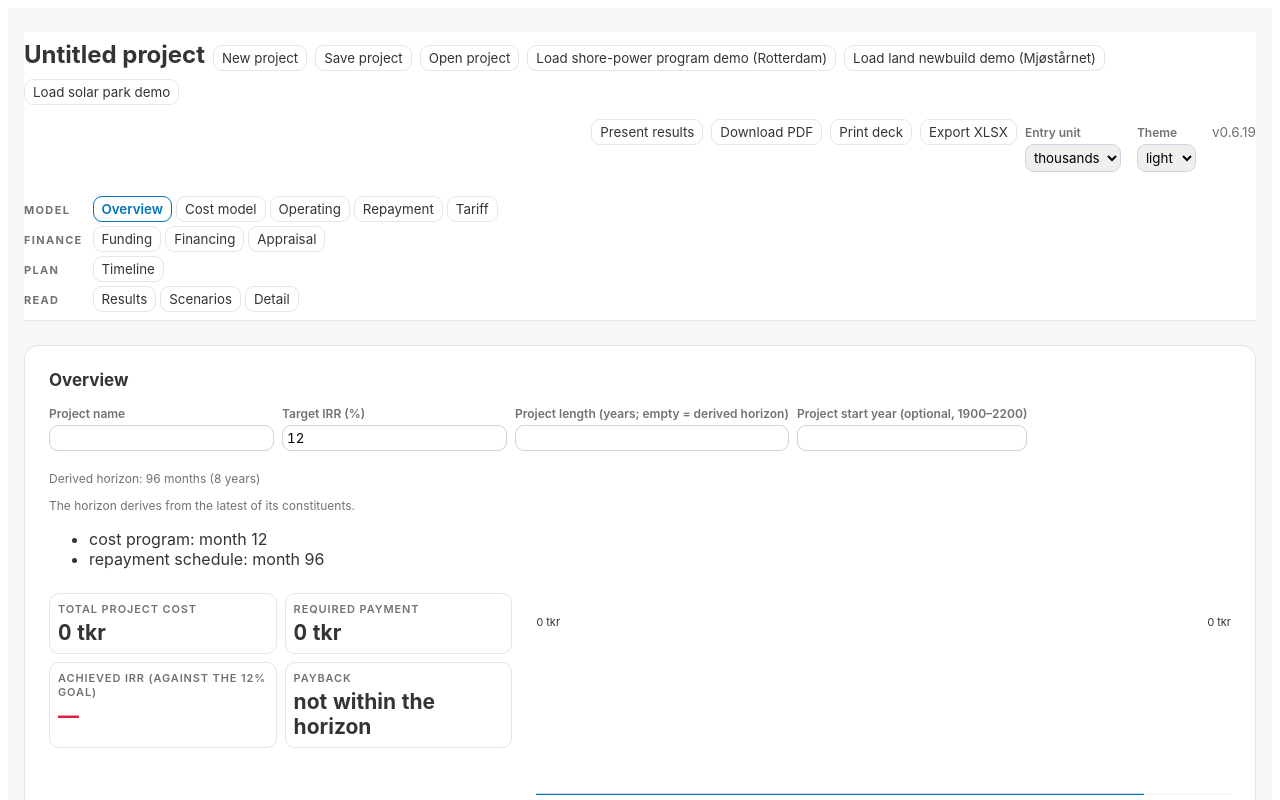
it: chunk 2: shell, blank start, demo load, validation panel › loads the demo project labeled as a demo and renders the baseline headline statistics
Click the button "Load shore-power program demo (Rotterdam)".
click(682, 58)  # box [527, 45, 836, 71]
(page scrolled)
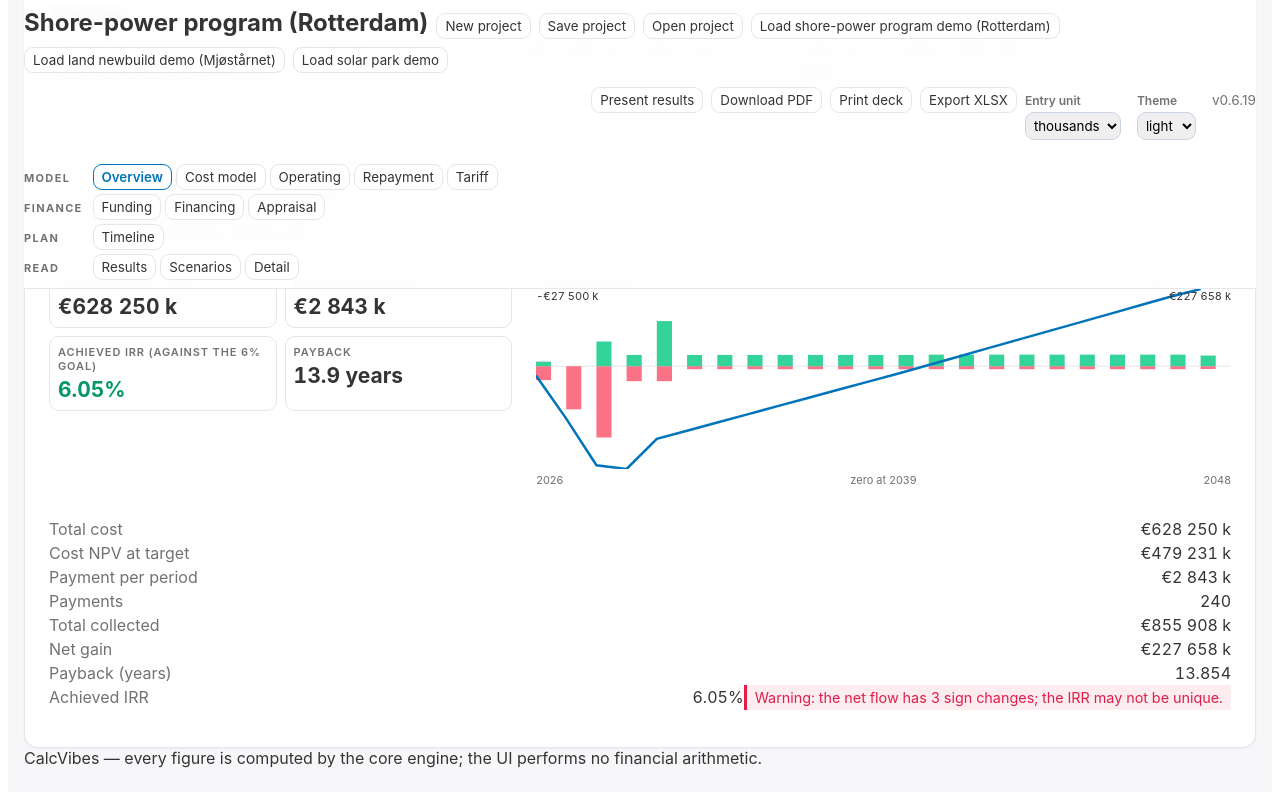
Expected: the heading "Shore-power program (Rotterdam)" is shown, [24, 8, 428, 37]
Expected: the text "€2 843 k" next to "Payment per period" is shown, [1162, 567, 1231, 587]
Expected: the text "€628 250 k" next to "Total cost" is shown, [1141, 519, 1231, 539]
